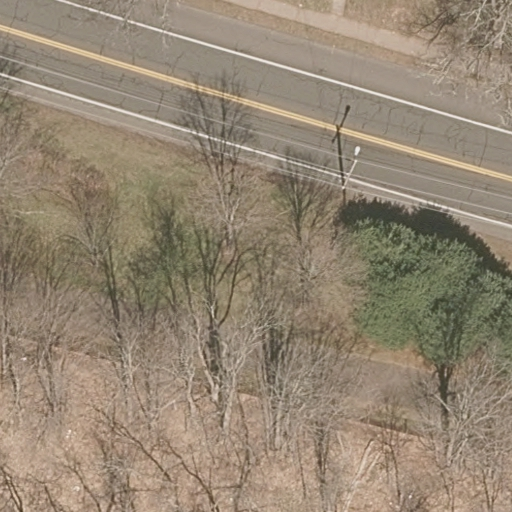DT: (341, 144, 361, 192)
